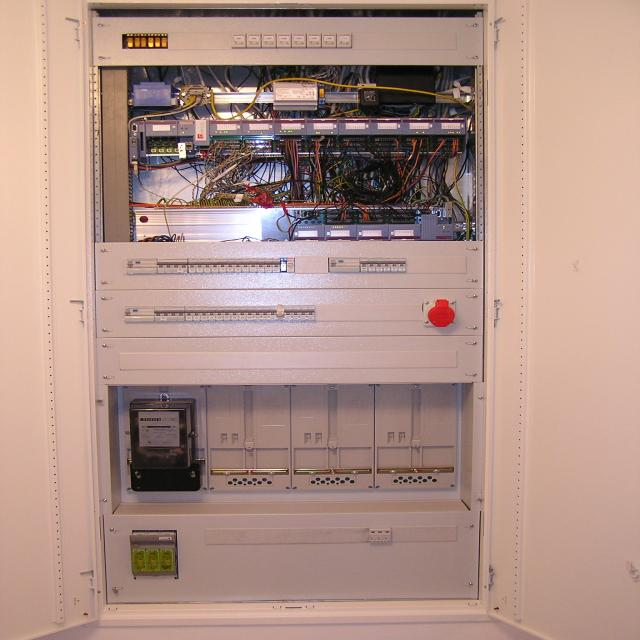Dimmer: (274, 83, 318, 106), (336, 33, 351, 47), (291, 33, 306, 47), (246, 33, 261, 47), (322, 33, 336, 47), (262, 33, 276, 47), (231, 33, 245, 47), (276, 34, 291, 47), (307, 33, 321, 46)
FI: (329, 258, 360, 273), (126, 259, 157, 274), (124, 307, 155, 321)
Leitungsschutzschalter: (307, 305, 315, 320), (215, 306, 223, 321), (200, 306, 208, 321), (192, 306, 200, 321), (177, 306, 185, 321), (272, 258, 280, 273), (242, 258, 250, 273), (234, 258, 242, 273), (226, 258, 234, 273), (219, 258, 227, 273), (211, 258, 219, 273), (203, 258, 211, 273), (196, 258, 204, 273), (188, 258, 196, 273), (292, 306, 300, 320), (284, 306, 292, 320), (269, 306, 277, 320), (261, 306, 269, 320), (246, 306, 254, 320), (238, 306, 246, 320), (230, 306, 238, 320), (162, 307, 170, 321), (398, 258, 406, 272), (383, 258, 391, 272), (368, 258, 376, 272), (360, 258, 368, 272), (257, 258, 265, 272), (180, 259, 188, 273), (172, 259, 180, 273), (164, 259, 172, 273), (208, 306, 215, 321), (185, 306, 192, 321), (170, 306, 177, 321), (265, 258, 272, 273), (253, 306, 261, 319), (300, 306, 307, 320), (223, 306, 230, 320), (155, 307, 162, 321), (391, 258, 398, 272), (376, 258, 383, 272), (250, 258, 257, 272), (158, 259, 165, 273)
SPS_System_Steuerungskomponente: (421, 214, 455, 241), (177, 120, 210, 146), (338, 118, 371, 135), (357, 224, 390, 241), (434, 118, 466, 135), (402, 118, 434, 135), (370, 118, 402, 135), (242, 119, 274, 136), (389, 224, 421, 241), (325, 225, 358, 241), (274, 119, 306, 135), (306, 119, 339, 134), (293, 226, 325, 241)
